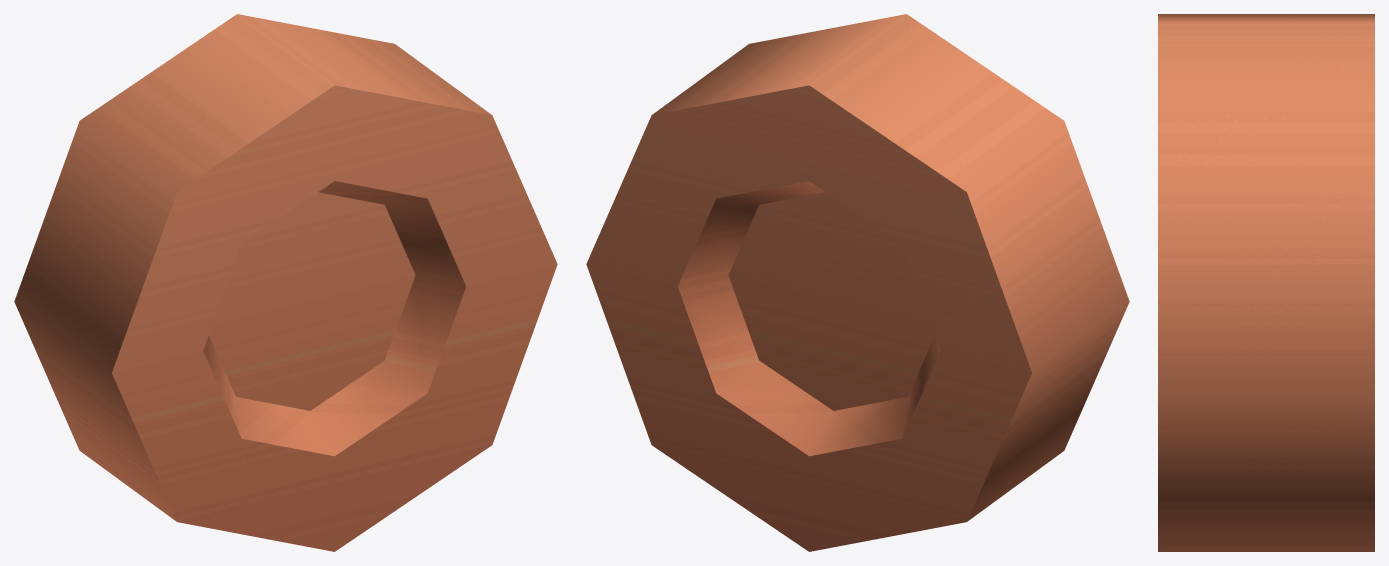
The model's file is item_coin_bronze.glb.
3 renders of one model, left to right at view 1: azimuth 30°, elevation 25°; view 2: azimuth 150°, elevation 25°; view 3: azimuth 270°, elevation 25°, orthographic. The views are drawn at different scales.
Visible parts, largest first — view 1: item-coin-bronze; view 2: item-coin-bronze; view 3: item-coin-bronze.
Boxes of the visible parts, x1,y1,x2,y2 form: item-coin-bronze: (14,14,557,551); item-coin-bronze: (586,14,1129,551); item-coin-bronze: (1158,14,1374,551).
Bounding box in the file's own units: 0.264 × 0.264 × 0.1.
1 material, 1 textured.
